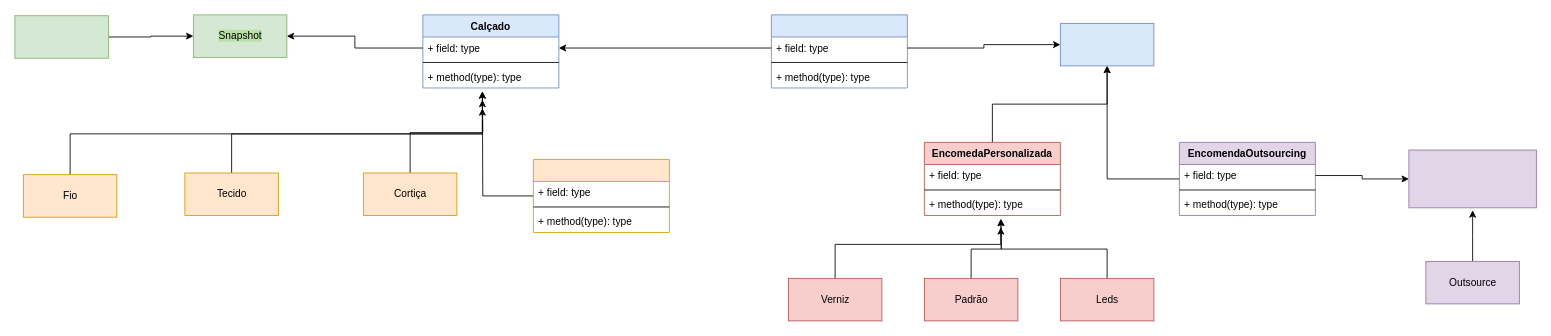
Some shapes in this 1551 by 336 pixel diagram are drawn without their labels. Each missing label, with the box of its shape:
Caretaker: (14, 15, 108, 58)
Componentes: (533, 159, 669, 232)
Creator: (771, 14, 907, 88)
«interface» Encomenda: (1060, 23, 1154, 66)
«interface» ImplementacaoOutsourc: (1408, 149, 1536, 208)
